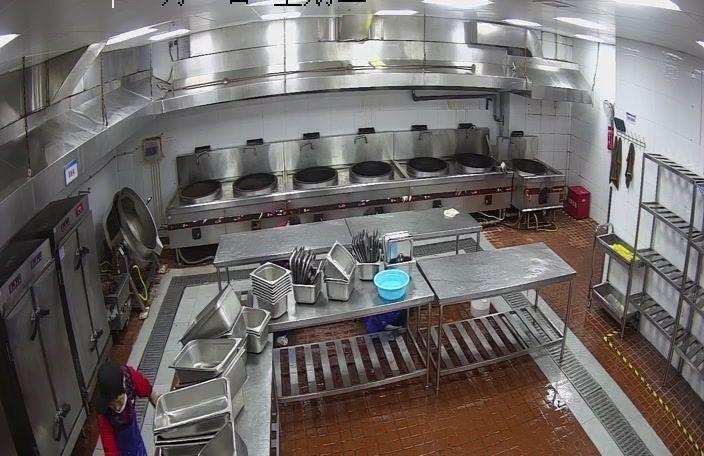mask: (112, 400, 130, 415)
